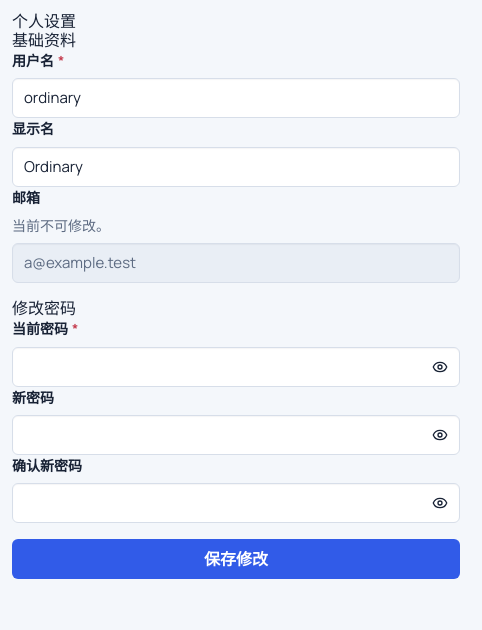
Test: 个人设置表单 › 新密码与确认不一致时不提交
Type "correct-123" into the password field labelled "当前密码*" at [236, 367], box x1=12 y1=347 x2=460 y2=387
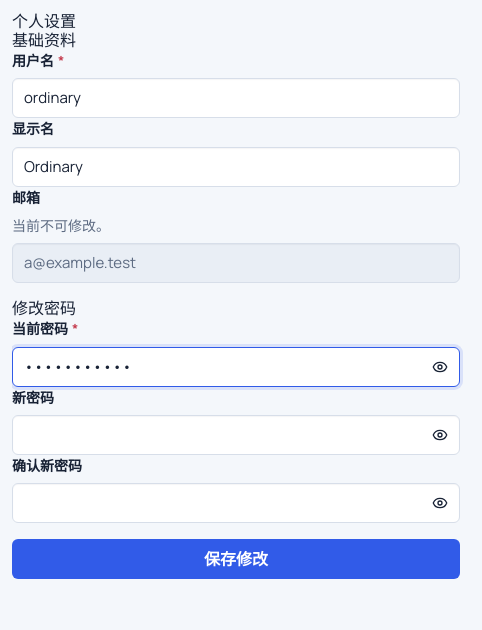
Type "brand-new-123" into the password field labelled "新密码" at [236, 435], box x1=12 y1=415 x2=460 y2=455
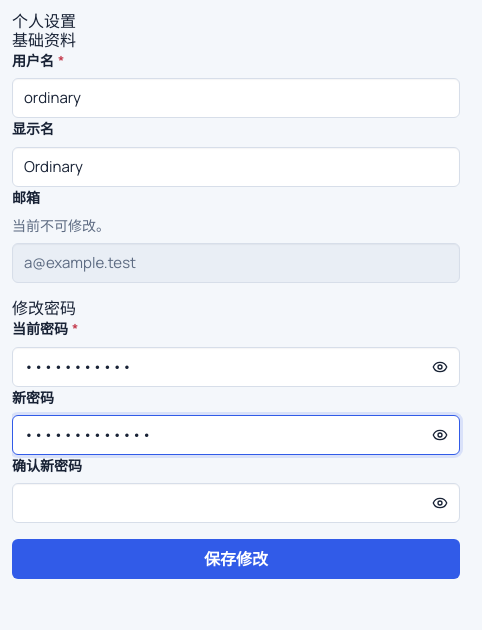
Type "different-123" into the password field labelled "确认新密码" at [236, 503], box x1=12 y1=483 x2=460 y2=523
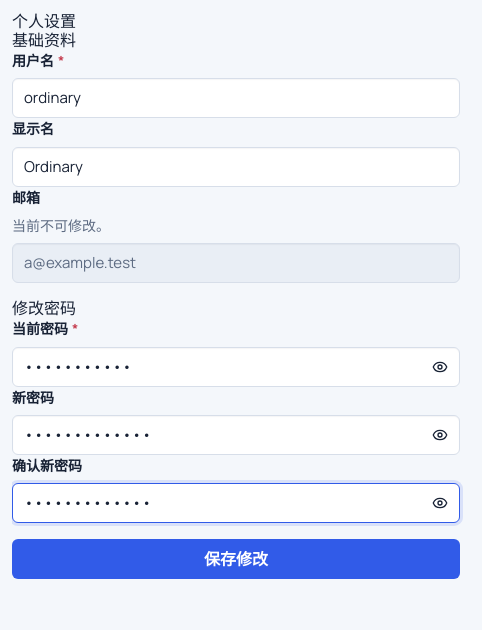
Click the button "保存修改" at [236, 559], box x1=12 y1=539 x2=460 y2=579
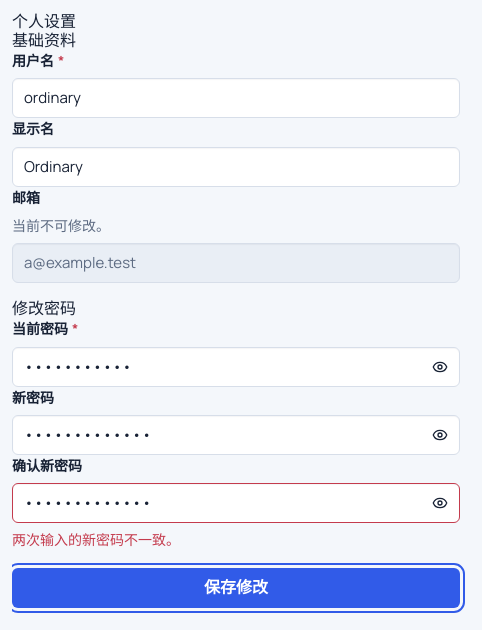
Expected: the text "两次输入的新密码不一致。" is shown, x1=12 y1=530 x2=180 y2=549
